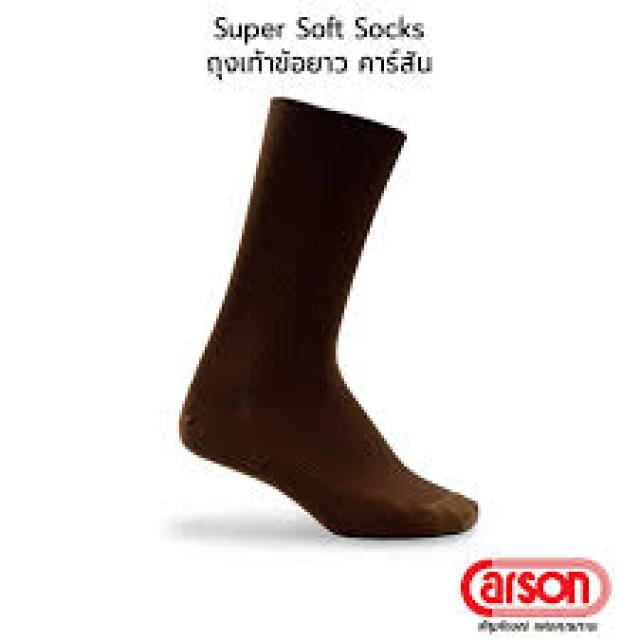sock: (176, 94, 478, 537)
